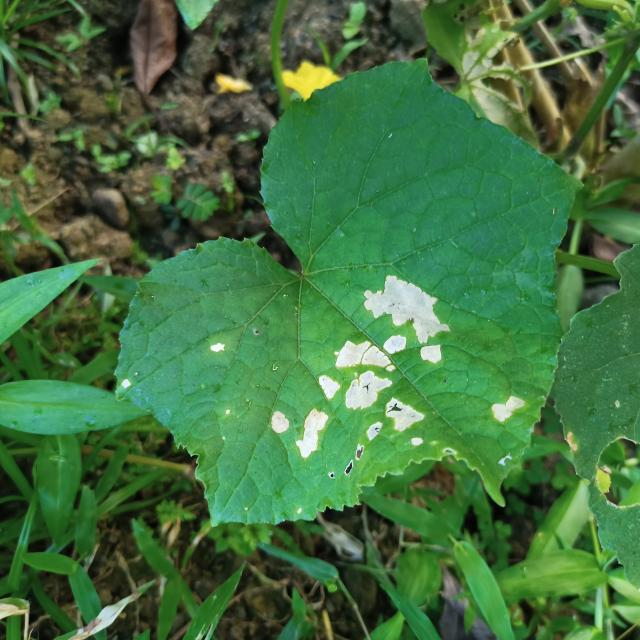disease_cucumber: (273, 276, 458, 468), (485, 388, 525, 435), (203, 339, 230, 358)
